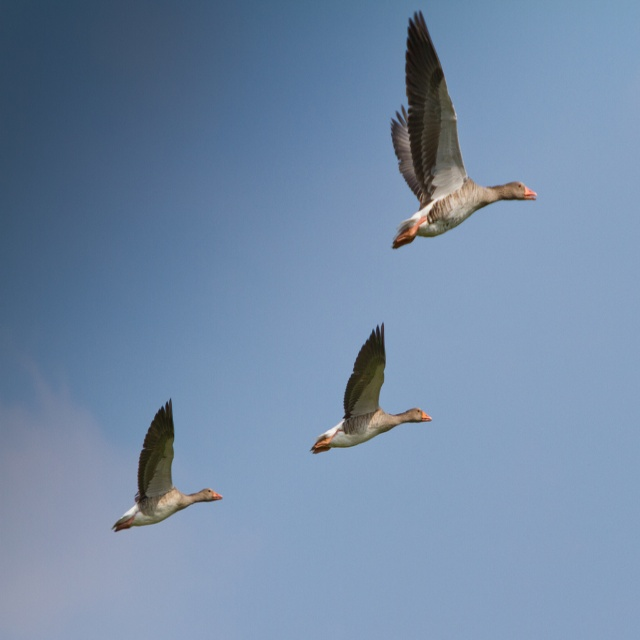Duck: (389, 31, 547, 261), (305, 319, 433, 457), (110, 397, 224, 529)
